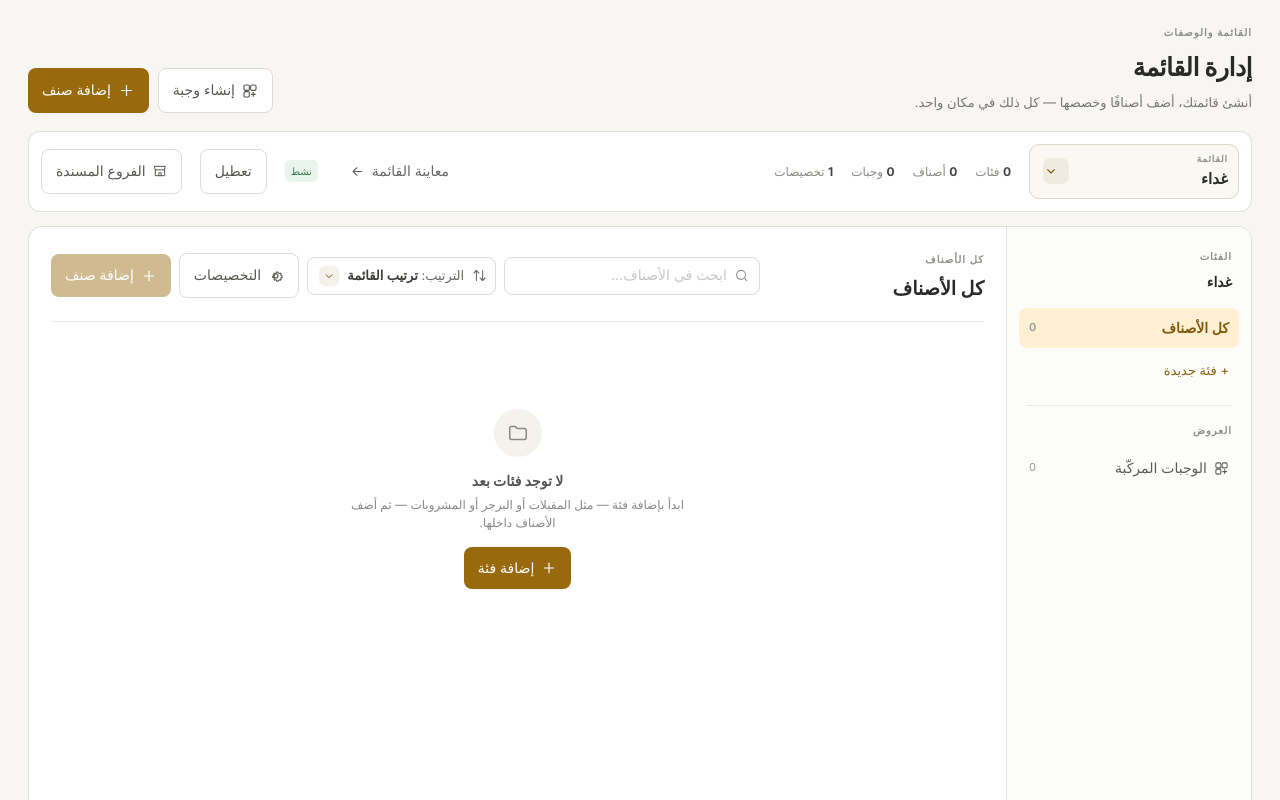
Test case: Phase 3 — localization › the Customizations button and drawer render in Arabic through the real catalogue — no MISSING key, no stray English
This screenshot has width=1280, height=800.
Step 1. Click the button "التخصيصات" → (239, 276), box [179,253,299,298]
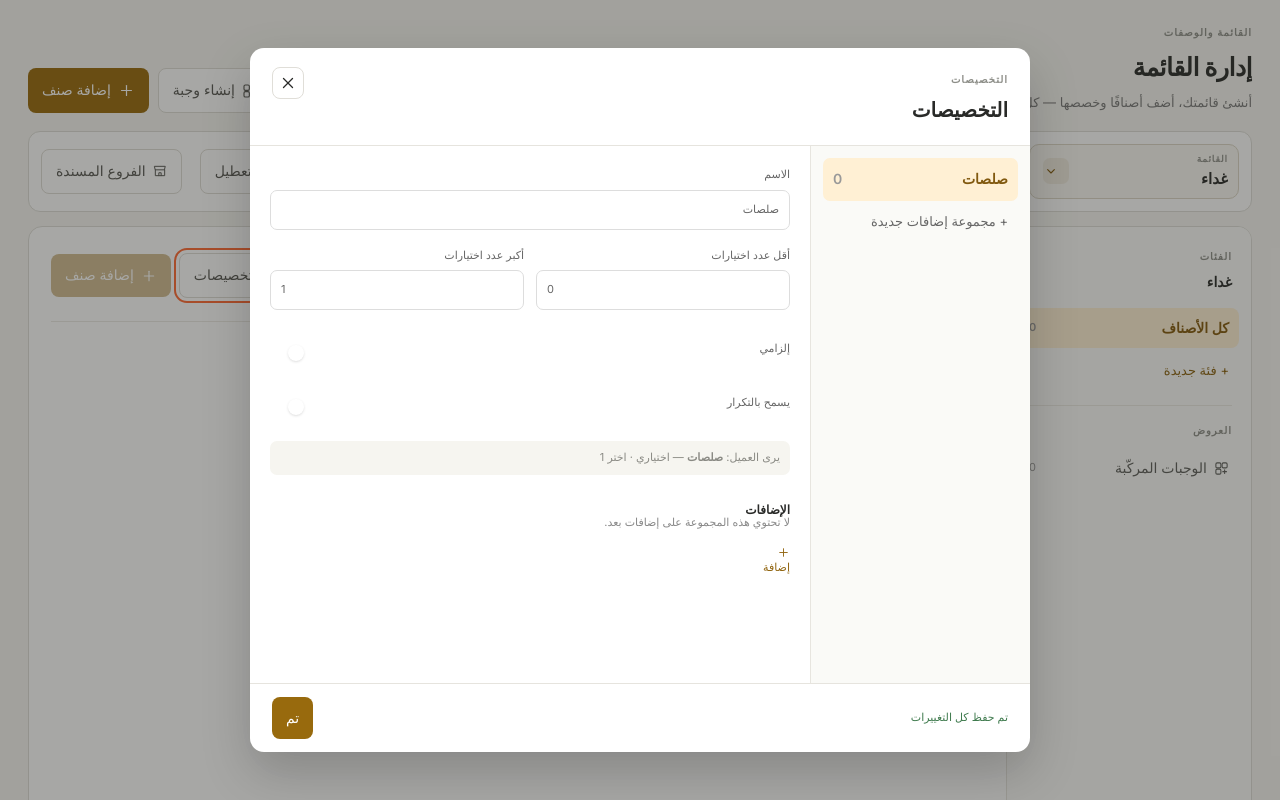
Expected: the button "صلصات 0" is shown, [823,158,1018,201]
